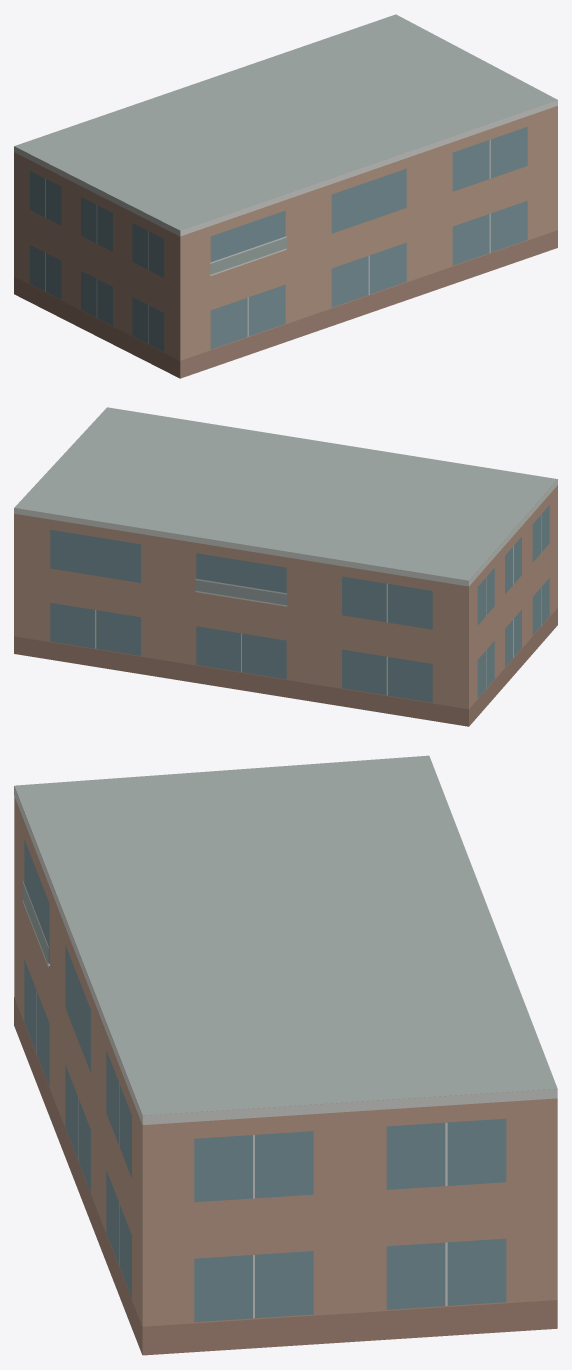
The model's file is survey-upis-32535515.glb.
3 views of the same model, one above another, from view 1: azimuth 30°, elevation 25°; view 2: azimuth 150°, elevation 25°; view 3: azimuth 270°, elevation 25° (orthographic). The views are drawn at different scales.
Visible parts, largest first — view 1: survey-upis-32535515.tmp; view 2: survey-upis-32535515.tmp; view 3: survey-upis-32535515.tmp.
Boxes of the visible parts, <box> form: survey-upis-32535515.tmp: <box>14,14,557,378</box>; survey-upis-32535515.tmp: <box>14,407,557,726</box>; survey-upis-32535515.tmp: <box>14,755,557,1355</box>.
Bounding box in the file's own units: 19.65 × 6.1 × 12.54.
